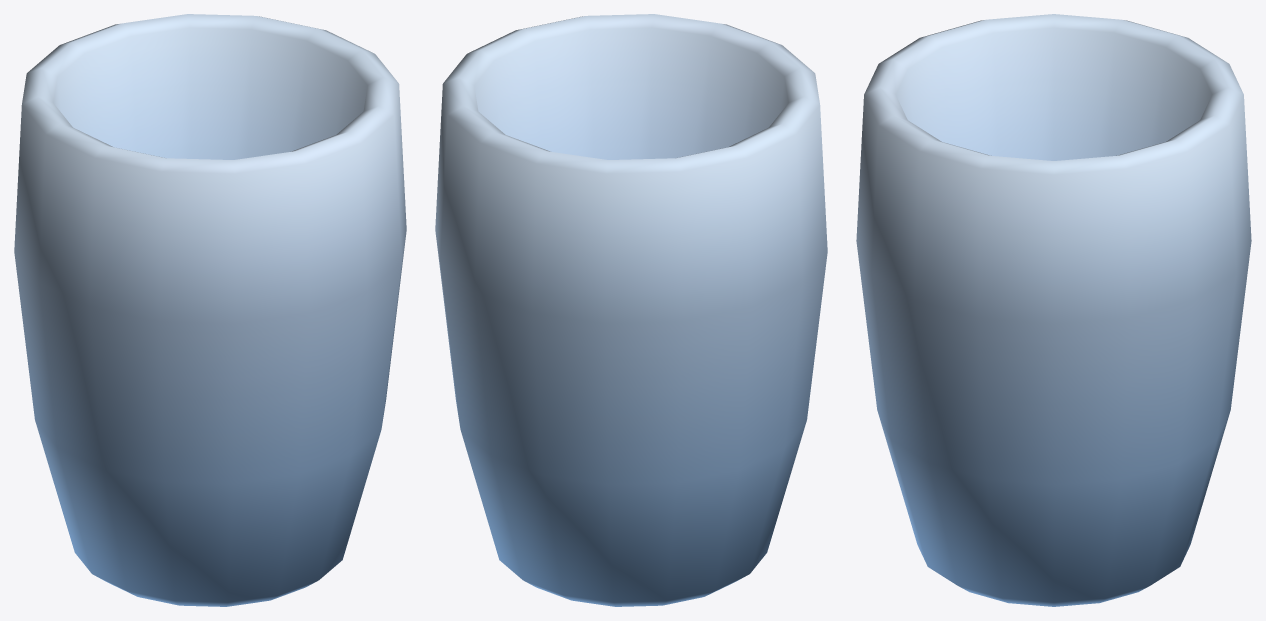
File: glass_006.fbx
The picture shows the model from 3 angles, left to right: view 1: azimuth 30°, elevation 25°; view 2: azimuth 150°, elevation 25°; view 3: azimuth 270°, elevation 25°; orthographic projection.
Visible parts, largest first — view 1: glass_006; view 2: glass_006; view 3: glass_006.
Part boxes in pixels (<box>): glass_006: <box>14,14,406,606</box>; glass_006: <box>435,14,827,606</box>; glass_006: <box>856,14,1251,606</box>.
Size of the model in its own units: 5.94 by 5.94 by 7.77.
